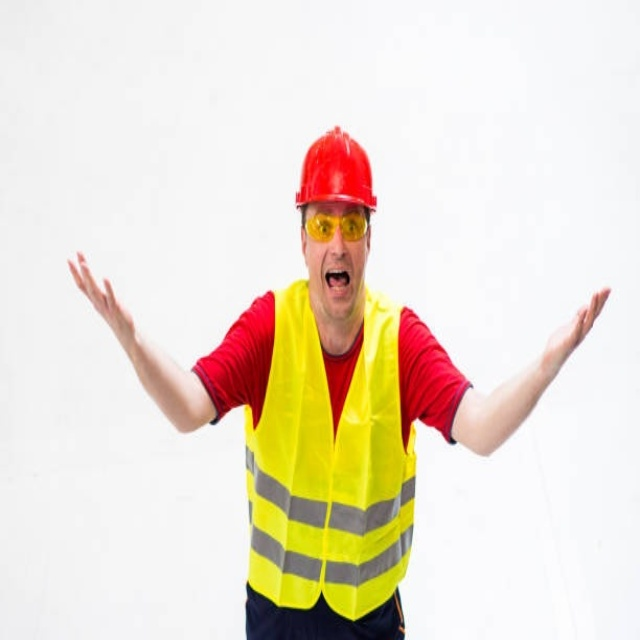Gafas: (304, 210, 369, 243)
Sin_guantes: (63, 245, 138, 347), (541, 279, 614, 372)
Sin_mascara: (318, 259, 360, 311)
